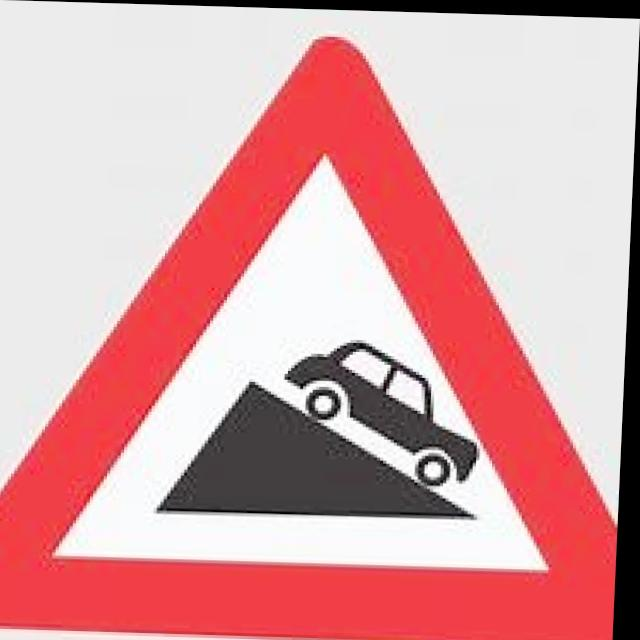STEEP_DESCENT: (0, 15, 639, 640)
